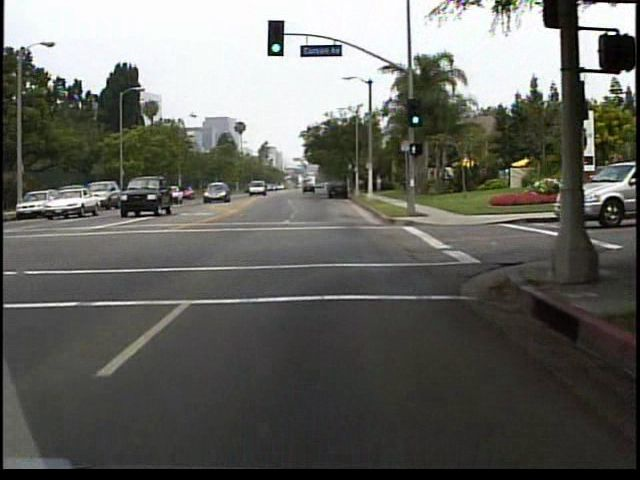person: (367, 175, 376, 199), (375, 173, 383, 193)
